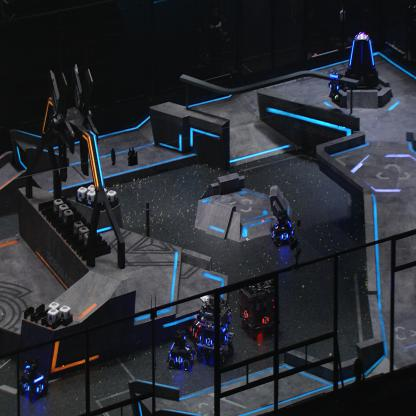car: (238, 274, 279, 340), (197, 294, 235, 365), (188, 293, 219, 347), (18, 357, 49, 401), (167, 329, 195, 372), (270, 210, 296, 246)
